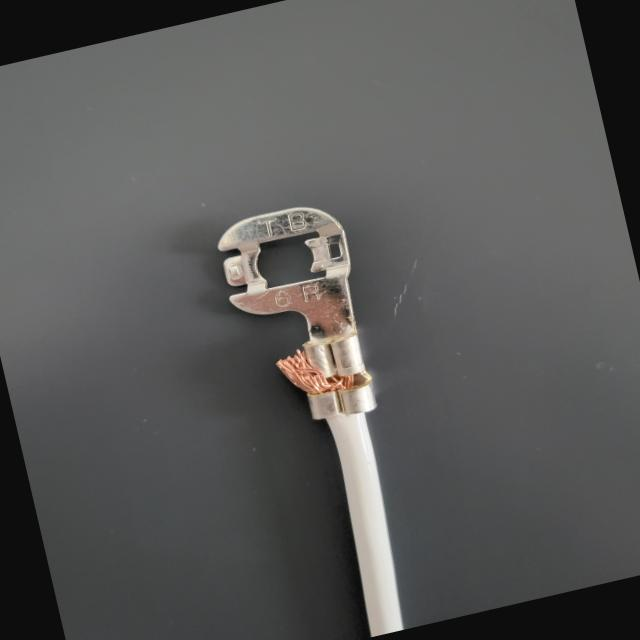defect: (128, 141, 494, 470)
